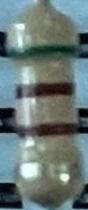Brown: (14, 80, 77, 99), (17, 122, 78, 137)
Green: (6, 44, 79, 62)
Side-Silver: (16, 156, 85, 183)
